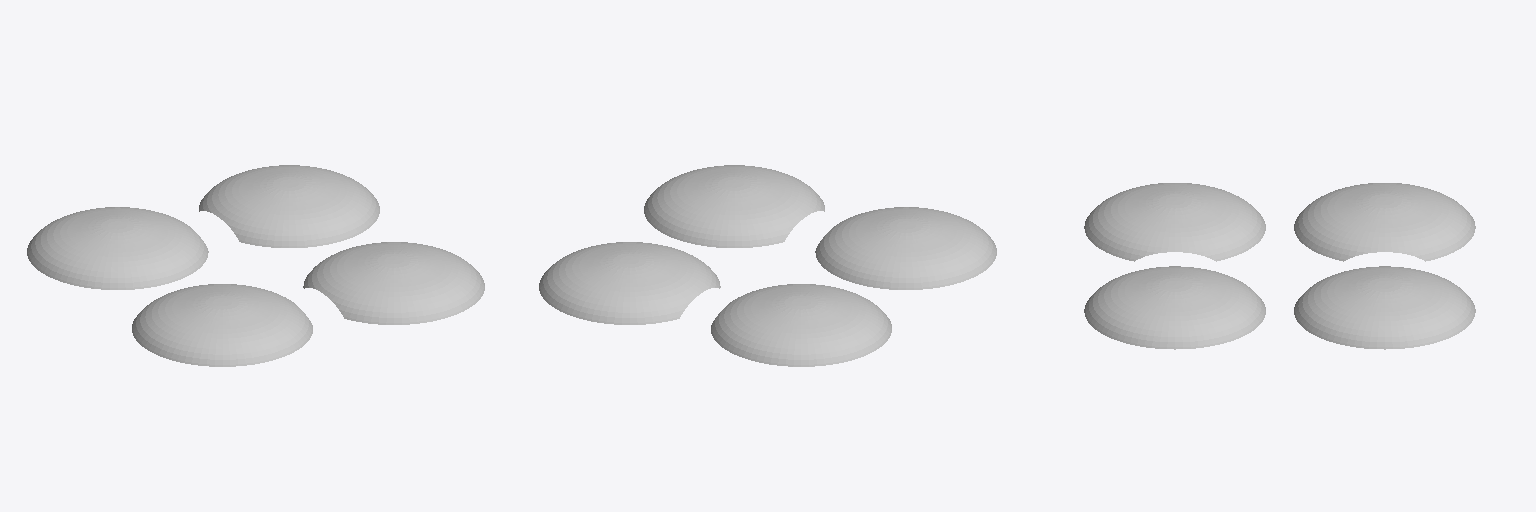
File: SM High gain antenna dish mesh.obj
3 renders of one model, left to right at view 1: azimuth 30°, elevation 25°; view 2: azimuth 150°, elevation 25°; view 3: azimuth 270°, elevation 25°, orthographic.
Visible parts, largest first — view 1: Mesh; view 2: Mesh; view 3: Mesh.
Boxes of the visible parts, x1=… form: Mesh: x1=27, y1=165, x2=484, y2=366; Mesh: x1=539, y1=165, x2=996, y2=366; Mesh: x1=1084, y1=183, x2=1475, y2=349.
Size of the model in its own units: 1.68 by 0.1295 by 1.73.